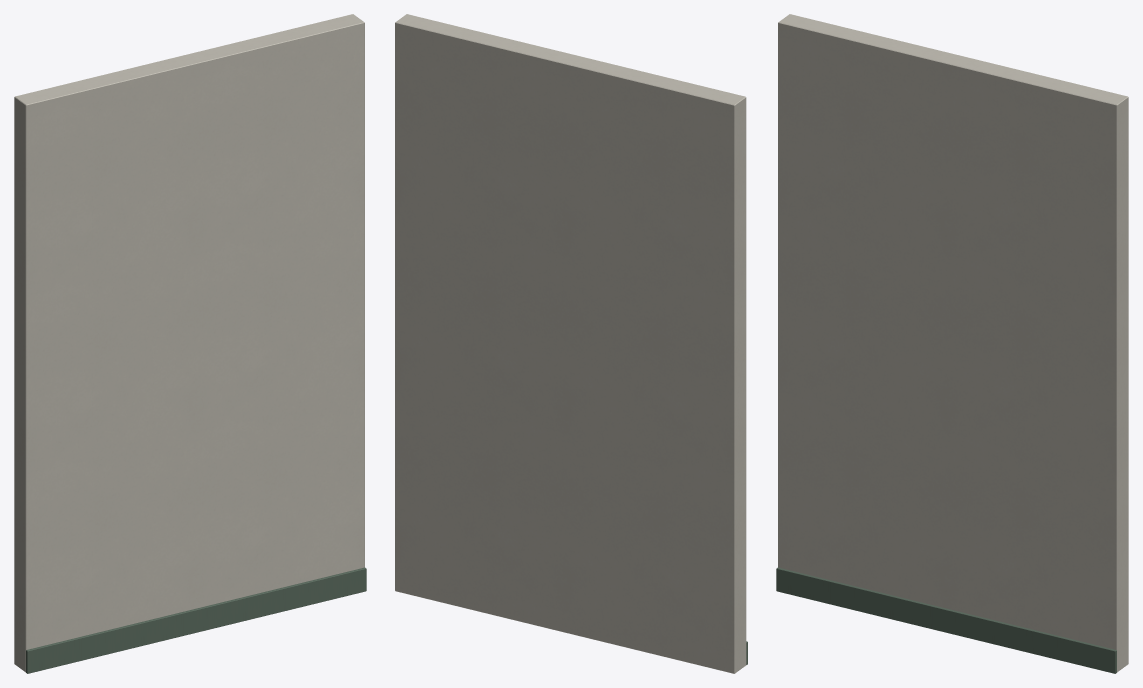
Rendered from stockroom_partition_2m.glb.
3 renders of one model, left to right at view 1: azimuth 30°, elevation 25°; view 2: azimuth 150°, elevation 25°; view 3: azimuth 330°, elevation 25°, orthographic.
Visible parts, largest first — view 1: stockroom_partition_2m; view 2: stockroom_partition_2m; view 3: stockroom_partition_2m.
Boxes of the visible parts, x1,y1,x2,y2 form: stockroom_partition_2m: (14, 14, 366, 673); stockroom_partition_2m: (395, 14, 747, 673); stockroom_partition_2m: (776, 14, 1128, 673).
Size of the model in its own units: 2 by 3.2 by 0.136.
Materials: 2 (2 with a texture image).
